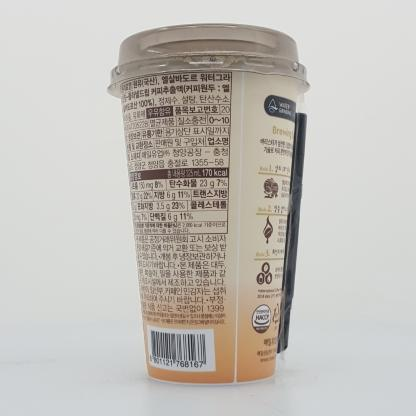------------------325ML: (106, 23, 311, 386)
